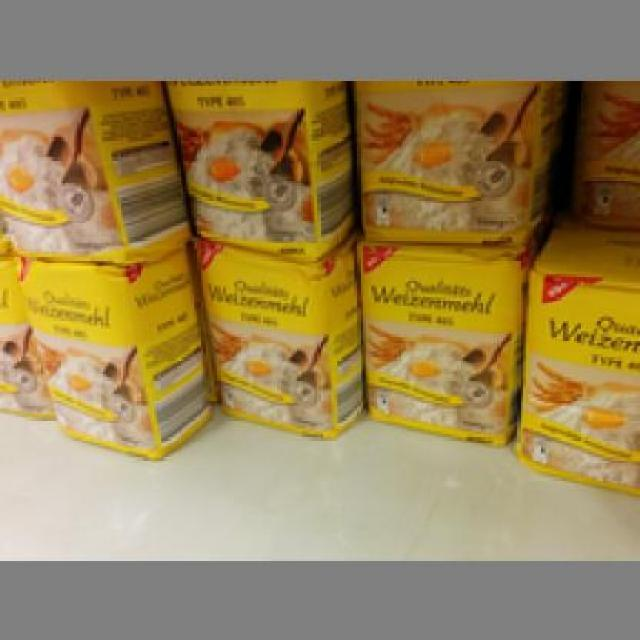Flour: (17, 245, 200, 458), (352, 237, 518, 446), (189, 232, 357, 438), (0, 78, 192, 252), (346, 80, 546, 243), (160, 77, 351, 243), (514, 232, 634, 494)
